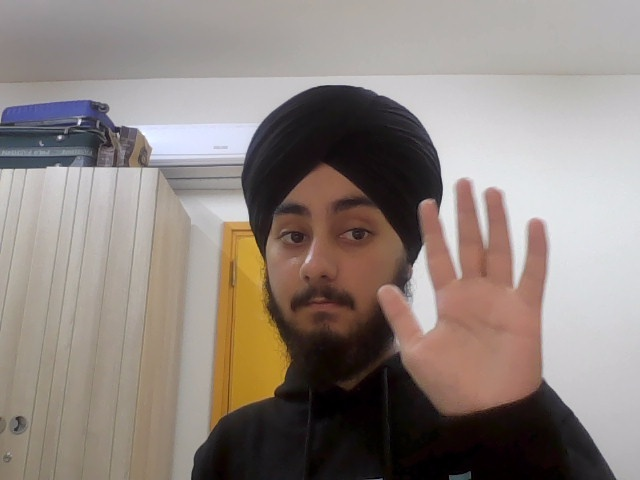Hello: (374, 173, 563, 411)
